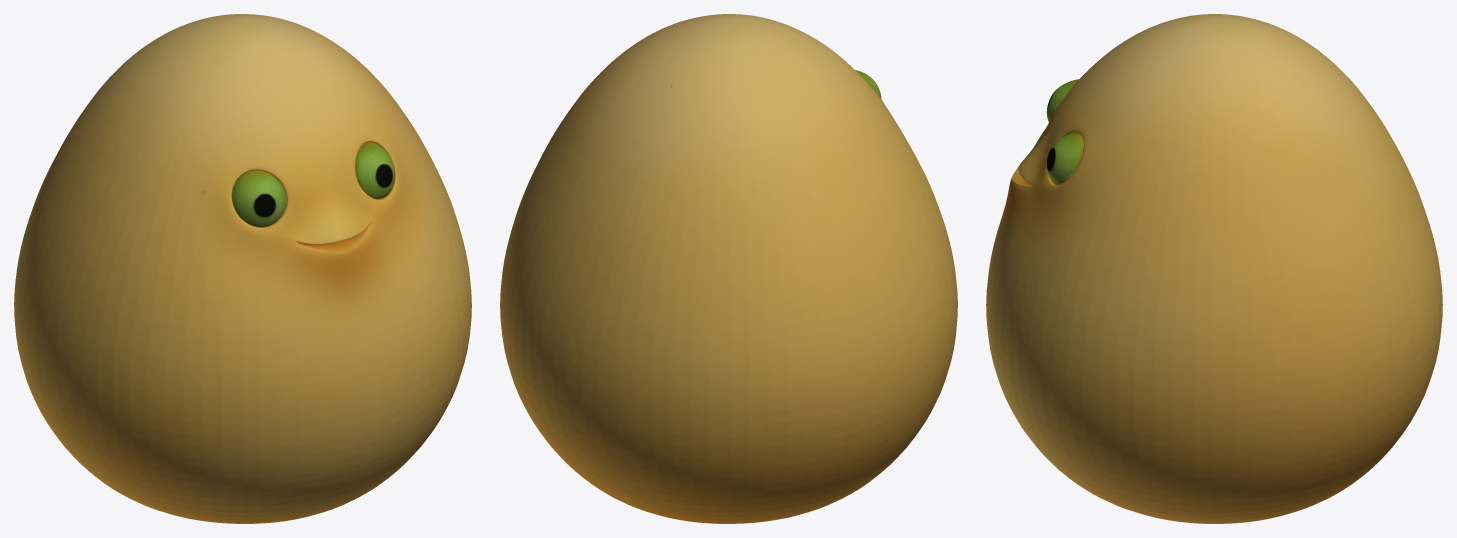
The model's file is naidan.glb.
3 views of the same model, side by side, from view 1: azimuth 30°, elevation 25°; view 2: azimuth 150°, elevation 25°; view 3: azimuth 270°, elevation 25° (orthographic).
Parts seen in each view (by area): view 1: naidan; view 2: naidan; view 3: naidan.
Part boxes in pixels (box(x1,y1,x2,y2)): naidan: box(14, 14, 471, 523); naidan: box(500, 14, 957, 523); naidan: box(986, 14, 1442, 523).
Size of the model in its own units: 2.06 by 2.2 by 2.06.
1 material, 1 textured.
